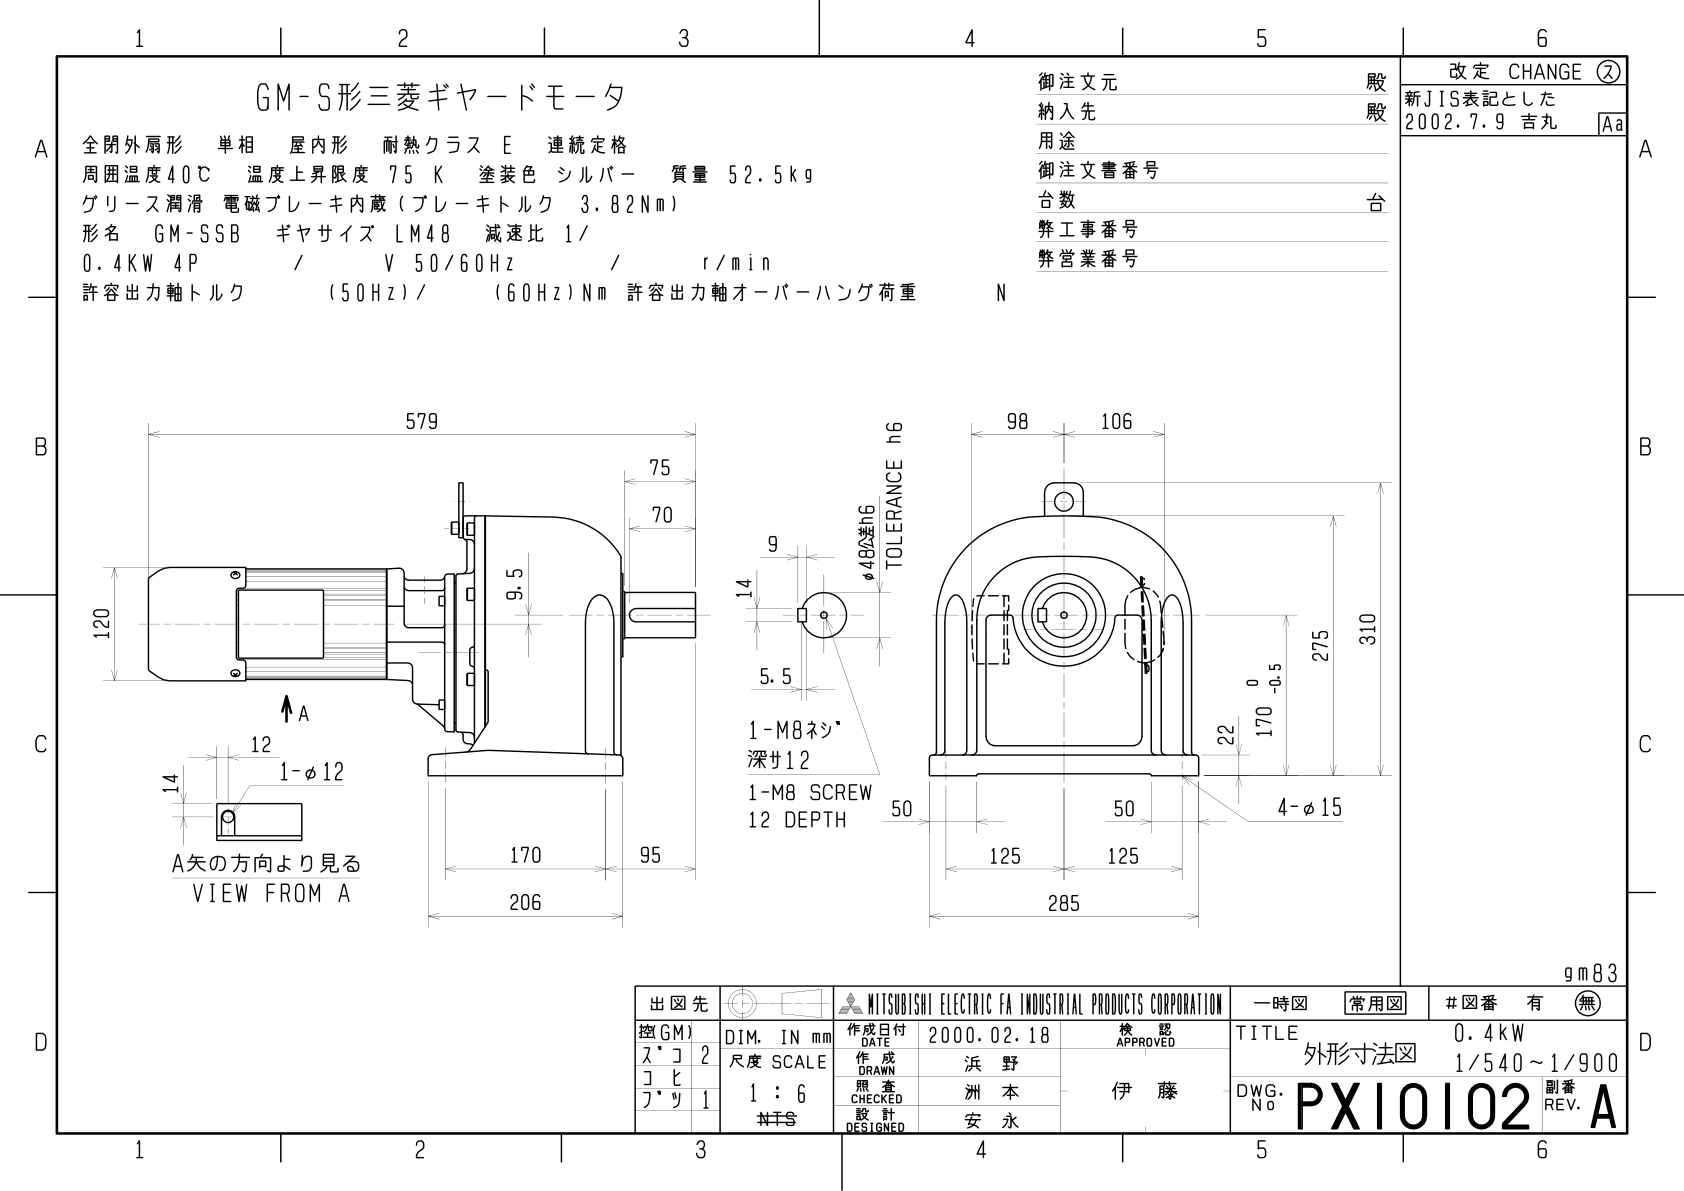GM_S_屋内＿三相_脚: (75, 396, 1397, 971)
